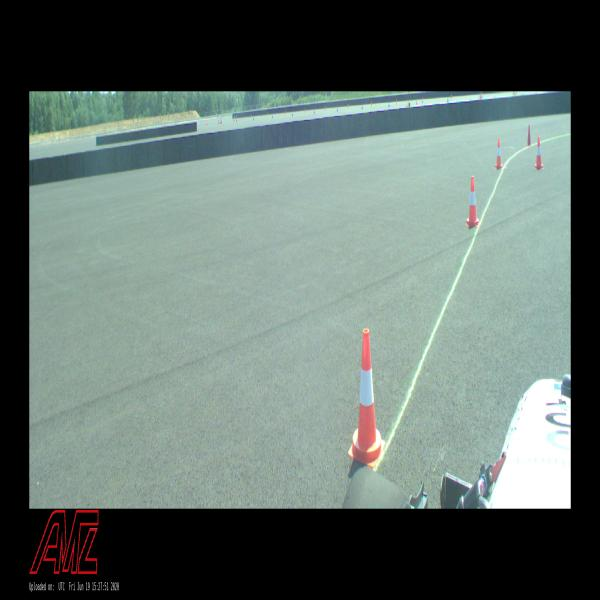orange_cone: (348, 329, 385, 467), (466, 176, 478, 226), (535, 137, 543, 169), (495, 138, 503, 169)
unknown_cone: (527, 125, 531, 146)
